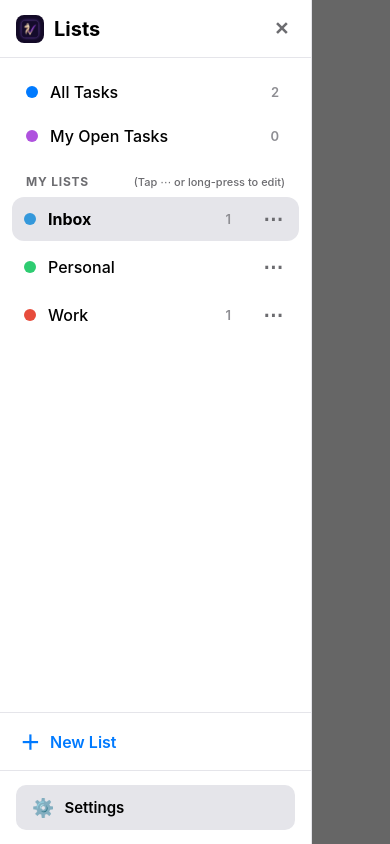
Test: ProjectDrawer › opens ProjectEditorModal when "New List" button is pressed
Click the element with test id "drawer-add-list-btn" at (156, 741), box 0,712 -> 311,770
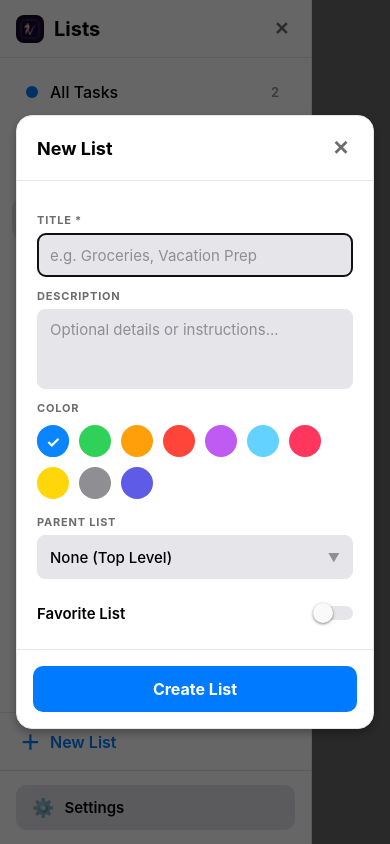
Result: the field with test id "project-modal-title-input" is shown at 37,233 -> 353,277
Result: the element with test id "project-modal-save-btn" is shown at 33,666 -> 357,712
